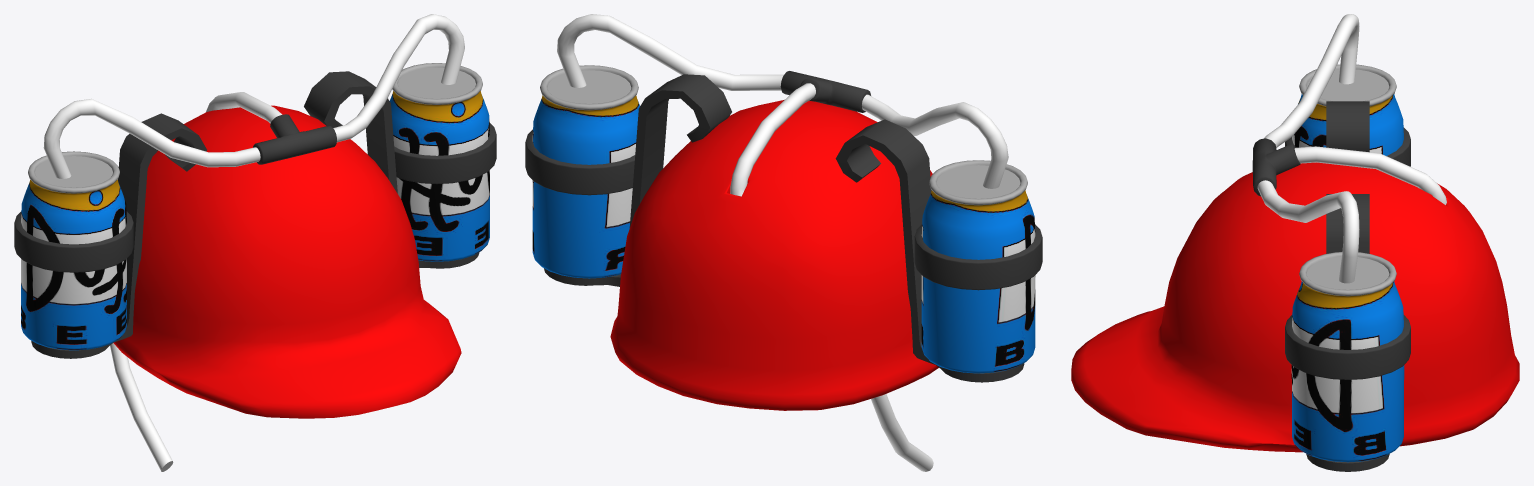
Rendered from BeerHat.fbx.
The picture shows the model from 3 angles, left to right: view 1: azimuth 30°, elevation 25°; view 2: azimuth 150°, elevation 25°; view 3: azimuth 270°, elevation 25°; orthographic projection. The views are drawn at different scales.
Parts seen in each view (by area): view 1: BeerHat; view 2: BeerHat; view 3: BeerHat.
Boxes of the visible parts, x1=… form: BeerHat: x1=14, y1=14, x2=496, y2=471; BeerHat: x1=525, y1=14, x2=1042, y2=471; BeerHat: x1=1071, y1=14, x2=1519, y2=471.
Size of the model in its own units: 0.5014 by 0.3816 by 0.3946.
Materials: 1 (1 with a texture image).
